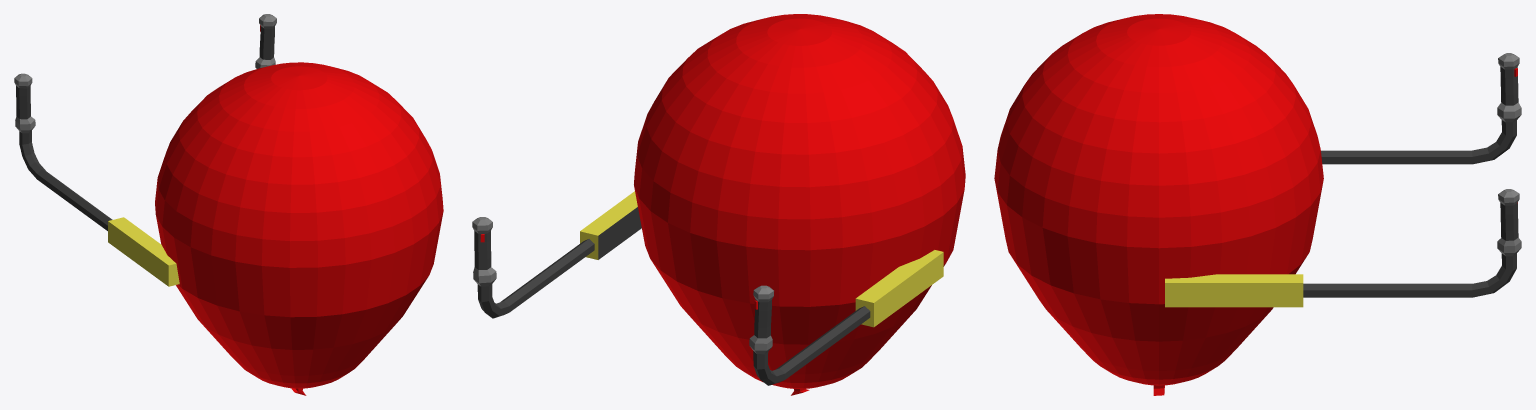
Rendered from jetpack5.fbx.
3 views of the same model, side by side, from view 1: azimuth 30°, elevation 25°; view 2: azimuth 150°, elevation 25°; view 3: azimuth 270°, elevation 25° (orthographic). The views are drawn at different scales.
Parts seen in each view (by area): view 1: Sphere, JetPack; view 2: Sphere, JetPack; view 3: Sphere, JetPack.
Boxes of the visible parts, x1=… form: Sphere: x1=155, y1=62, x2=443, y2=395; JetPack: x1=14, y1=14, x2=276, y2=286; Sphere: x1=634, y1=14, x2=965, y2=395; JetPack: x1=472, y1=191, x2=943, y2=385; Sphere: x1=994, y1=14, x2=1323, y2=395; JetPack: x1=1165, y1=53, x2=1521, y2=307.
Size of the model in its own units: 91.99 by 109 by 143.
